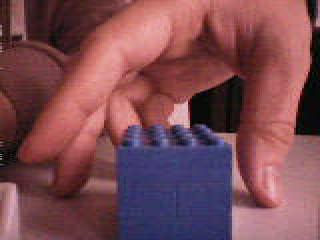legocube: (114, 124, 235, 240)
